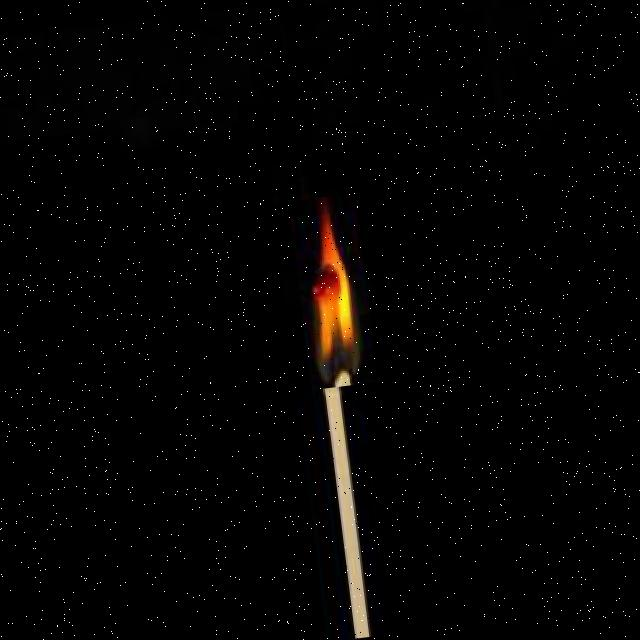fire: (272, 192, 378, 392)
